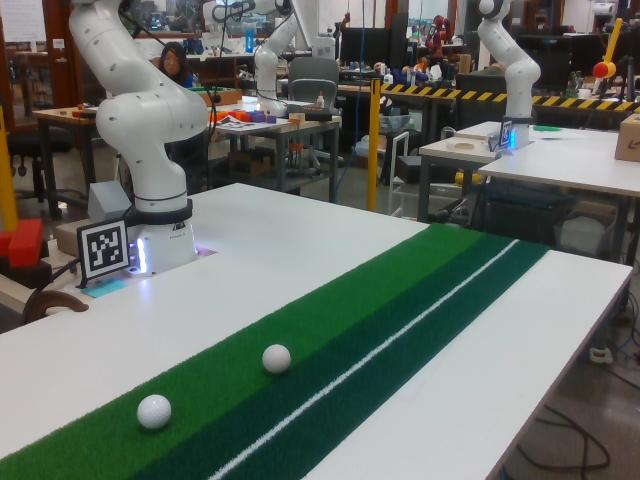golf_balls: (137, 394, 171, 429), (262, 344, 291, 373)
